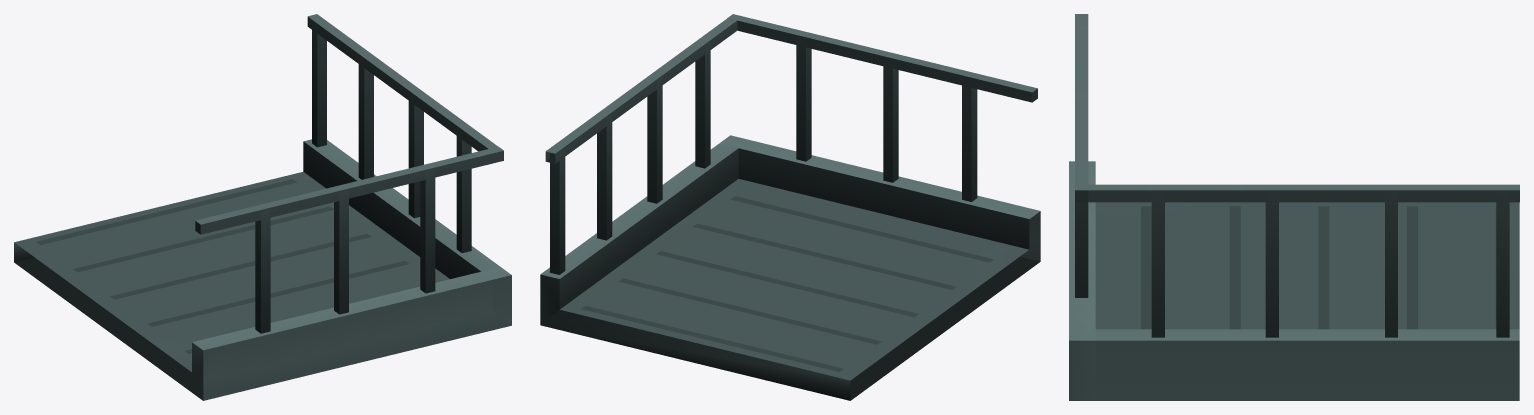
File: Catwalk05.fbx
The picture shows the model from 3 angles, left to right: view 1: azimuth 30°, elevation 25°; view 2: azimuth 150°, elevation 25°; view 3: azimuth 270°, elevation 25°; orthographic projection. The views are drawn at different scales.
Visible parts, largest first — view 1: catwalk05, Fence05; view 2: catwalk05, Fence05; view 3: catwalk05, Fence05.
Part boxes in pixels (x1,y1,x2,y2): catwalk05: [14, 139, 511, 400]; Fence05: [195, 14, 503, 333]; catwalk05: [540, 135, 1040, 400]; Fence05: [545, 14, 1037, 274]; catwalk05: [1069, 161, 1519, 400]; Fence05: [1075, 14, 1519, 337].
Size of the model in its own units: 319 by 172 by 339.
